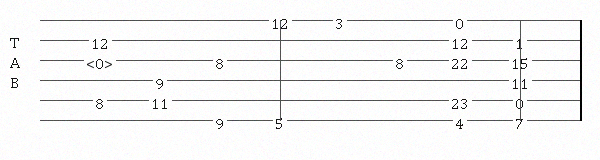0: (455, 13, 468, 27), (515, 93, 528, 107)
1: (515, 33, 528, 47)
11: (151, 93, 173, 107), (511, 73, 533, 87)
12: (91, 33, 113, 47), (271, 13, 293, 27), (451, 33, 473, 47)
15: (511, 53, 533, 68)
22: (451, 53, 473, 67)
23: (451, 93, 473, 107)
3: (335, 13, 348, 27)
4: (455, 113, 468, 127)
5: (275, 113, 288, 128)
7: (515, 113, 528, 127)
8: (95, 93, 108, 107), (215, 53, 228, 67), (395, 53, 408, 67)
9: (155, 73, 168, 87), (215, 113, 228, 127)
harmonic: (86, 53, 117, 67)
